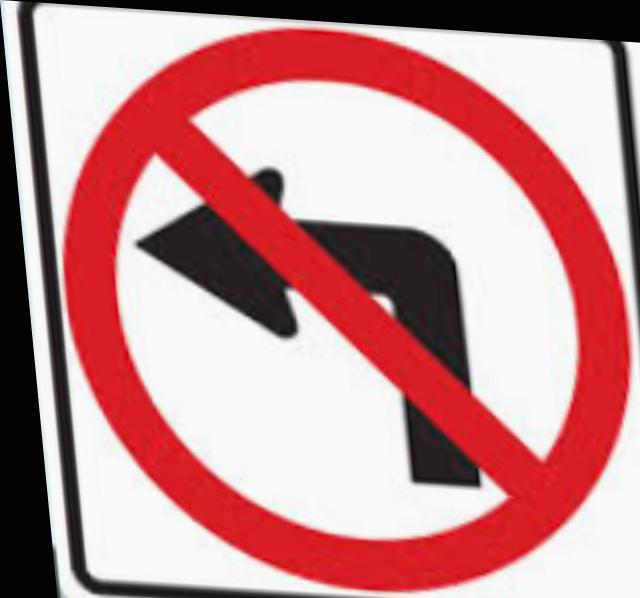not_turn_left: (47, 13, 640, 587)
